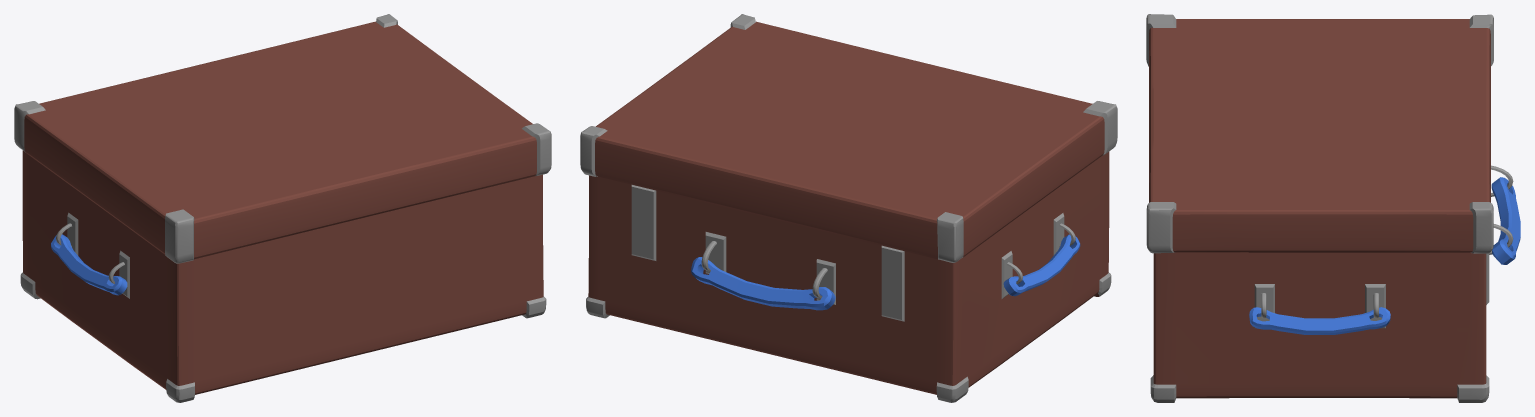
Rendered from TravelTrunk.FBX.
3 renders of one model, left to right at view 1: azimuth 30°, elevation 25°; view 2: azimuth 150°, elevation 25°; view 3: azimuth 270°, elevation 25°, orthographic. The views are drawn at different scales.
Visible parts, largest first — view 1: TravelTrunk; view 2: TravelTrunk; view 3: TravelTrunk.
Boxes of the visible parts, x1=… form: TravelTrunk: x1=14, y1=14, x2=551, y2=402; TravelTrunk: x1=580, y1=14, x2=1117, y2=402; TravelTrunk: x1=1146, y1=14, x2=1520, y2=402.
Bounding box in the file's own units: 104 × 44.94 × 77.29.
